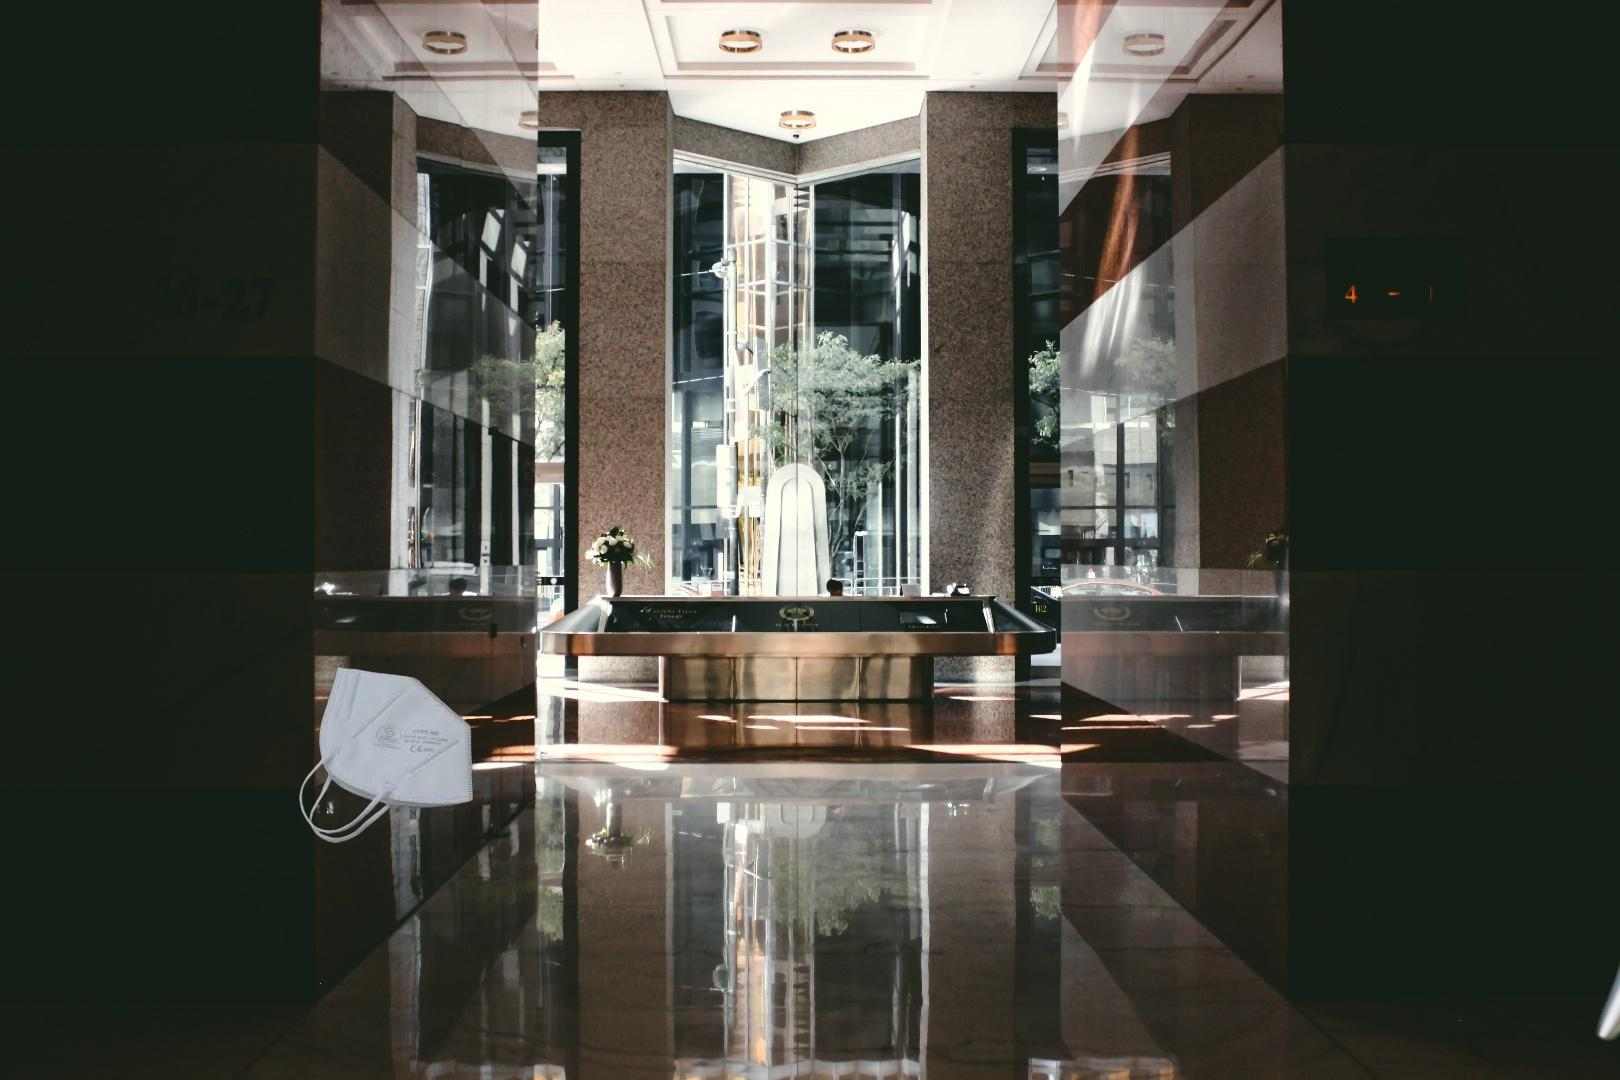penholder: (1587, 510, 1620, 1080)
trash: (297, 664, 476, 846)
